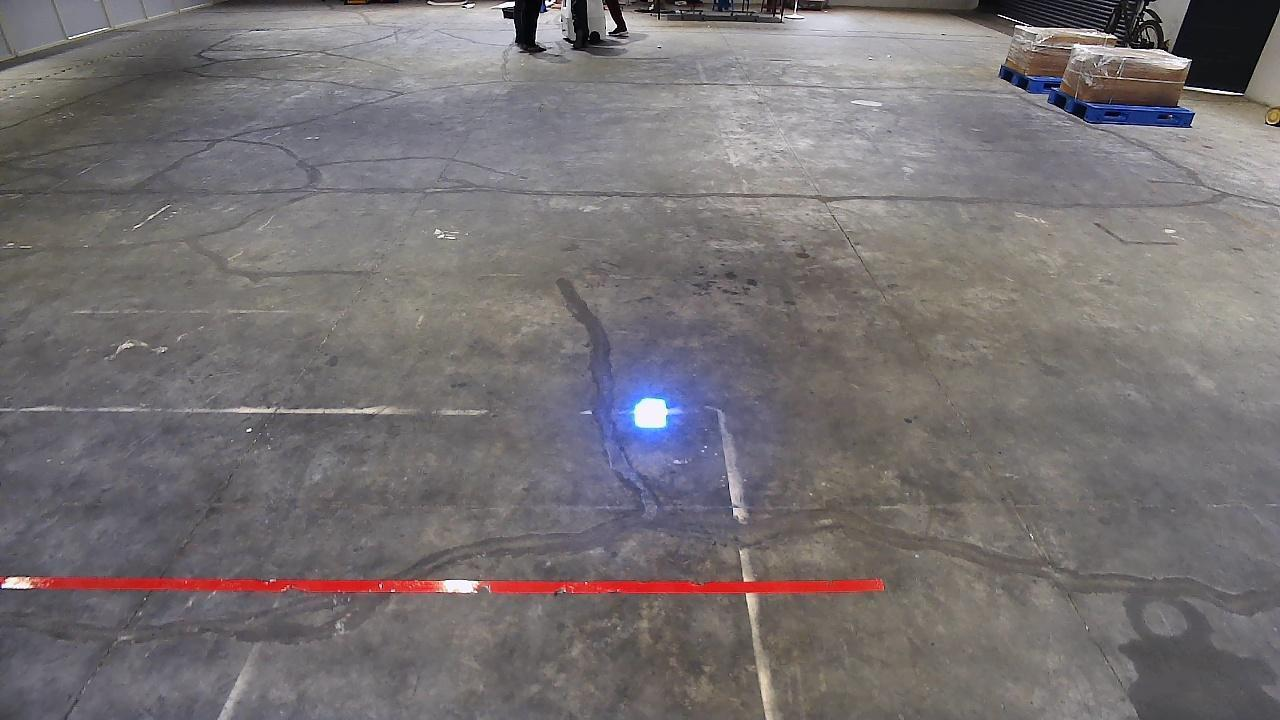red_line: (0, 576, 890, 593)
